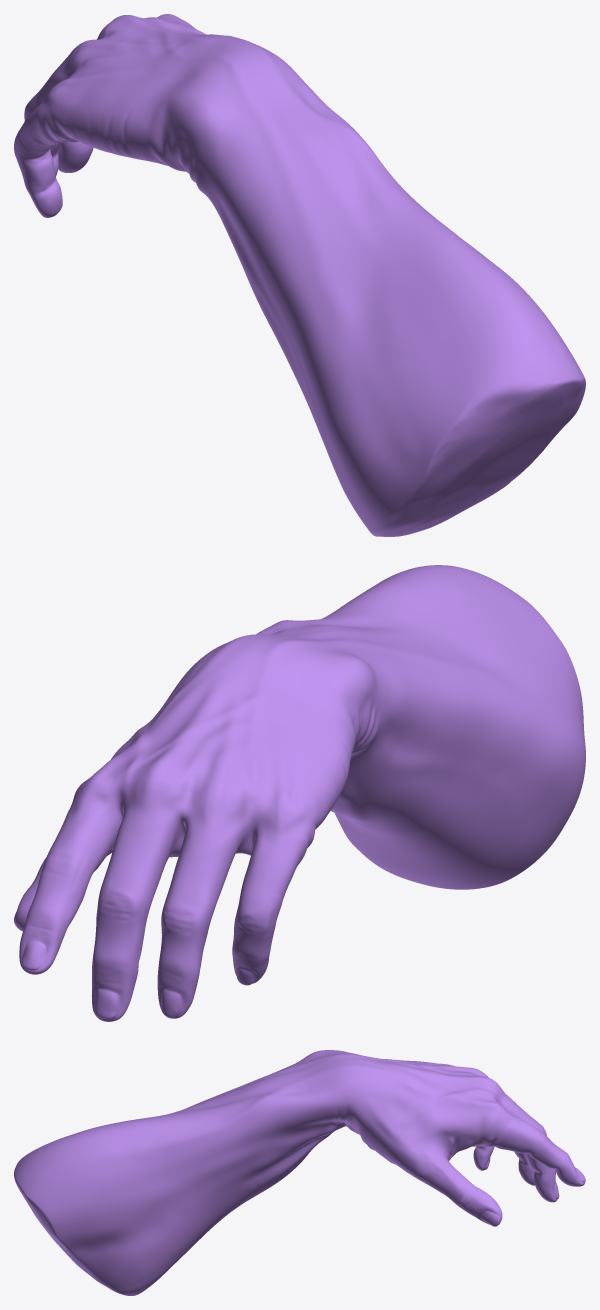
File: left2.glb
3 views of the same model, one above another, from view 1: azimuth 30°, elevation 25°; view 2: azimuth 150°, elevation 25°; view 3: azimuth 270°, elevation 25° (orthographic). The views are drawn at different scales.
Visible parts, largest first — view 1: model.001; view 2: model.001; view 3: model.001.
Boxes of the visible parts, <box> form: model.001: <box>14,14,585,536</box>; model.001: <box>14,565,585,1021</box>; model.001: <box>14,1050,585,1295</box>.
Size of the model in its own units: 3.12 by 4.4 by 10.03.
